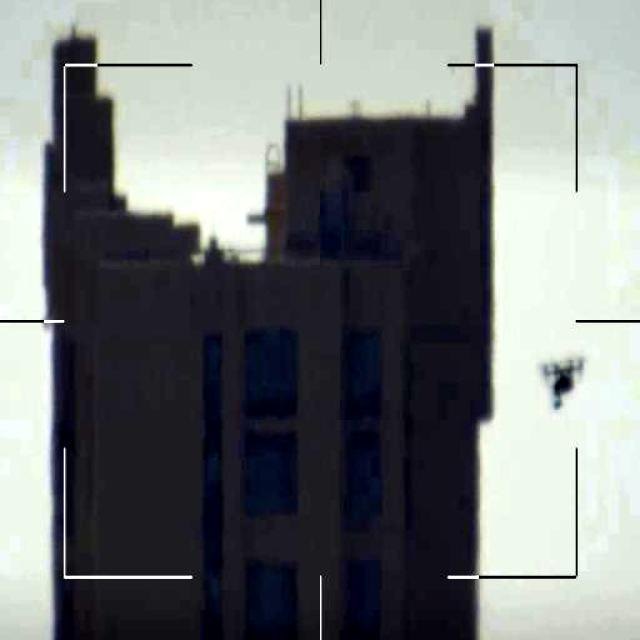bird: (535, 344, 599, 432)
